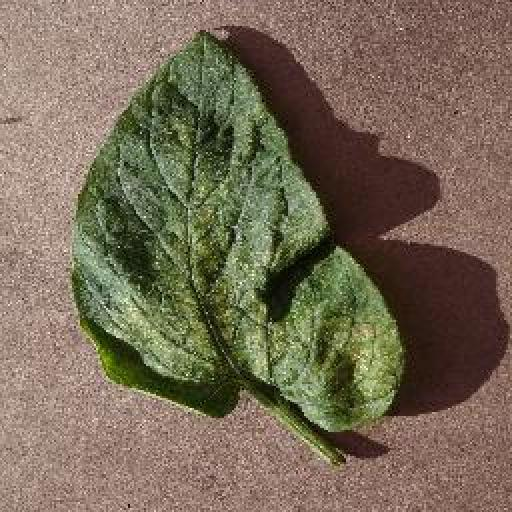disease_tomato: (74, 28, 406, 432)
